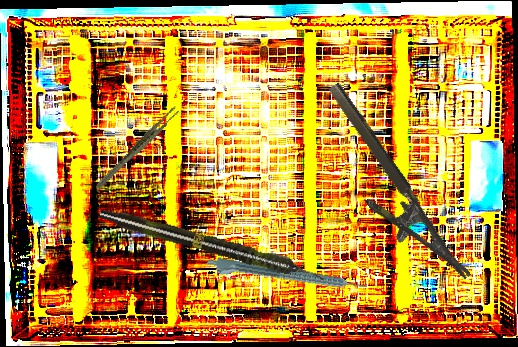Handpiece: (97, 203, 327, 288), (205, 255, 368, 300)
Needle Holder: (301, 80, 472, 302)
Tissue Forceps: (84, 105, 191, 190)
